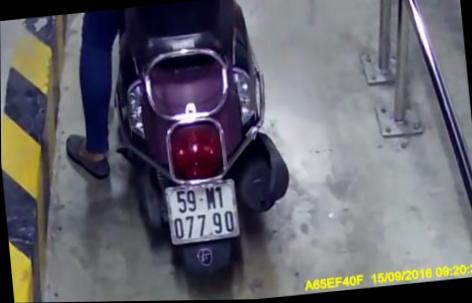LP: (164, 178, 241, 244)
